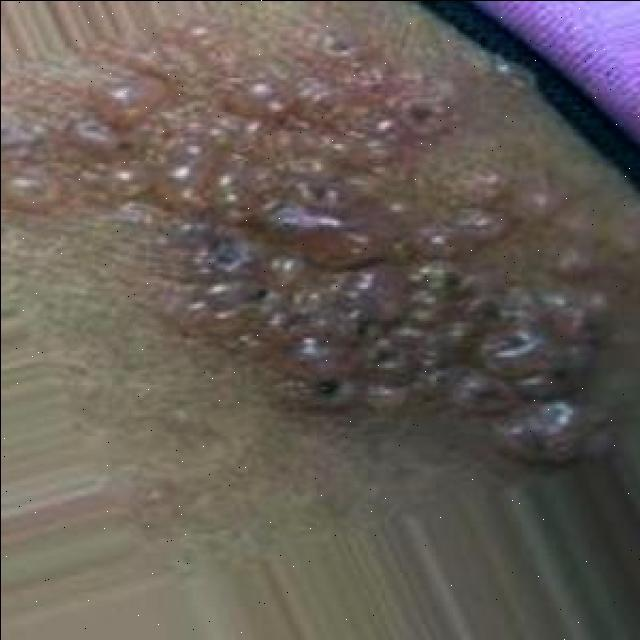Shingles: (17, 29, 629, 478)
